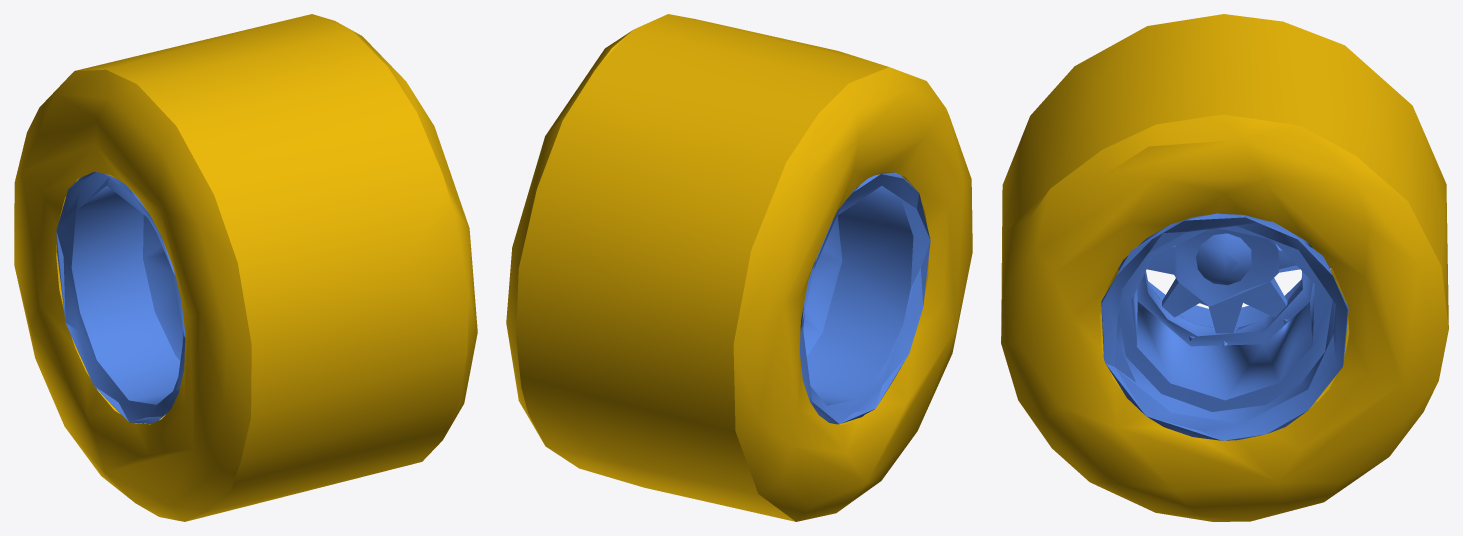
File: Wheel_AI.fbx
3 renders of one model, left to right at view 1: azimuth 30°, elevation 25°; view 2: azimuth 150°, elevation 25°; view 3: azimuth 270°, elevation 25°, orthographic. The views are drawn at different scales.
Visible parts, largest first — view 1: Wheel; view 2: Wheel; view 3: Wheel.
Part boxes in pixels (x1,y1,x2,y2): Wheel: (14,14,477,521); Wheel: (506,14,972,521); Wheel: (1001,14,1448,521).
Bounding box in the file's own units: 103 × 155 × 154.
